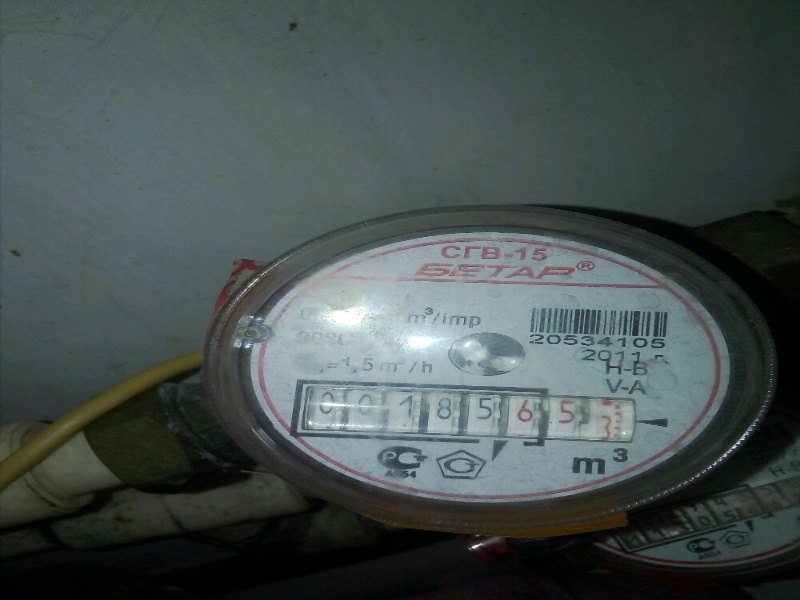dial: (307, 385, 624, 445)
